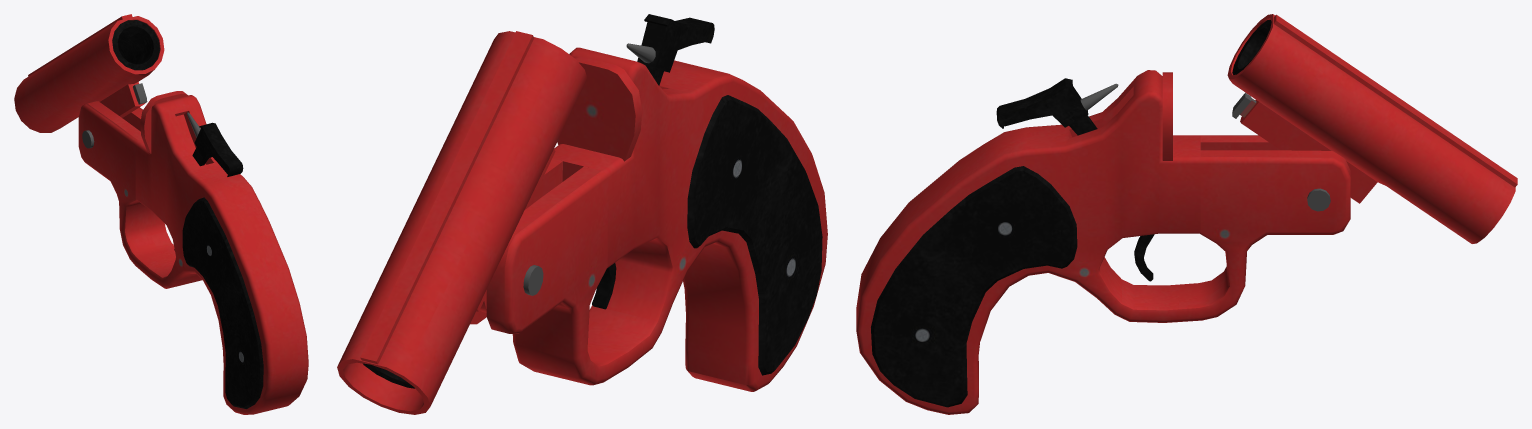
File: cc0-guns-explosives-pack-glb--flaregun.glb
The picture shows the model from 3 angles, left to right: view 1: azimuth 30°, elevation 25°; view 2: azimuth 150°, elevation 25°; view 3: azimuth 270°, elevation 25°; orthographic projection. The views are drawn at different scales.
Visible parts, largest first — view 1: Body, Barrel, Hammer; view 2: Body, Barrel, Hammer, Trigger; view 3: Body, Barrel, Hammer.
Boxes of the visible parts, box(x1,y1,x2,y2) form: Body: box(78, 91, 308, 414); Barrel: box(14, 14, 164, 148); Hammer: box(187, 112, 243, 176); Body: box(470, 47, 827, 391); Barrel: box(337, 31, 587, 414); Hammer: box(626, 14, 714, 85); Trigger: box(592, 263, 616, 309); Body: box(856, 70, 1350, 414); Barrel: box(1227, 14, 1517, 243); Hammer: box(996, 78, 1118, 135).
Bounding box in the file's own units: 0.0327 × 0.1768 × 0.2743.
1 material, 1 textured.
